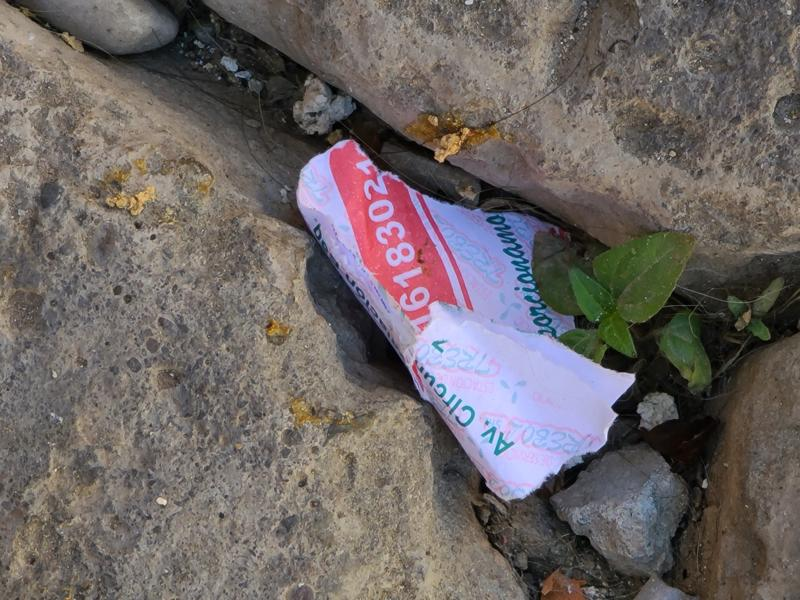papel: (297, 140, 638, 504)
